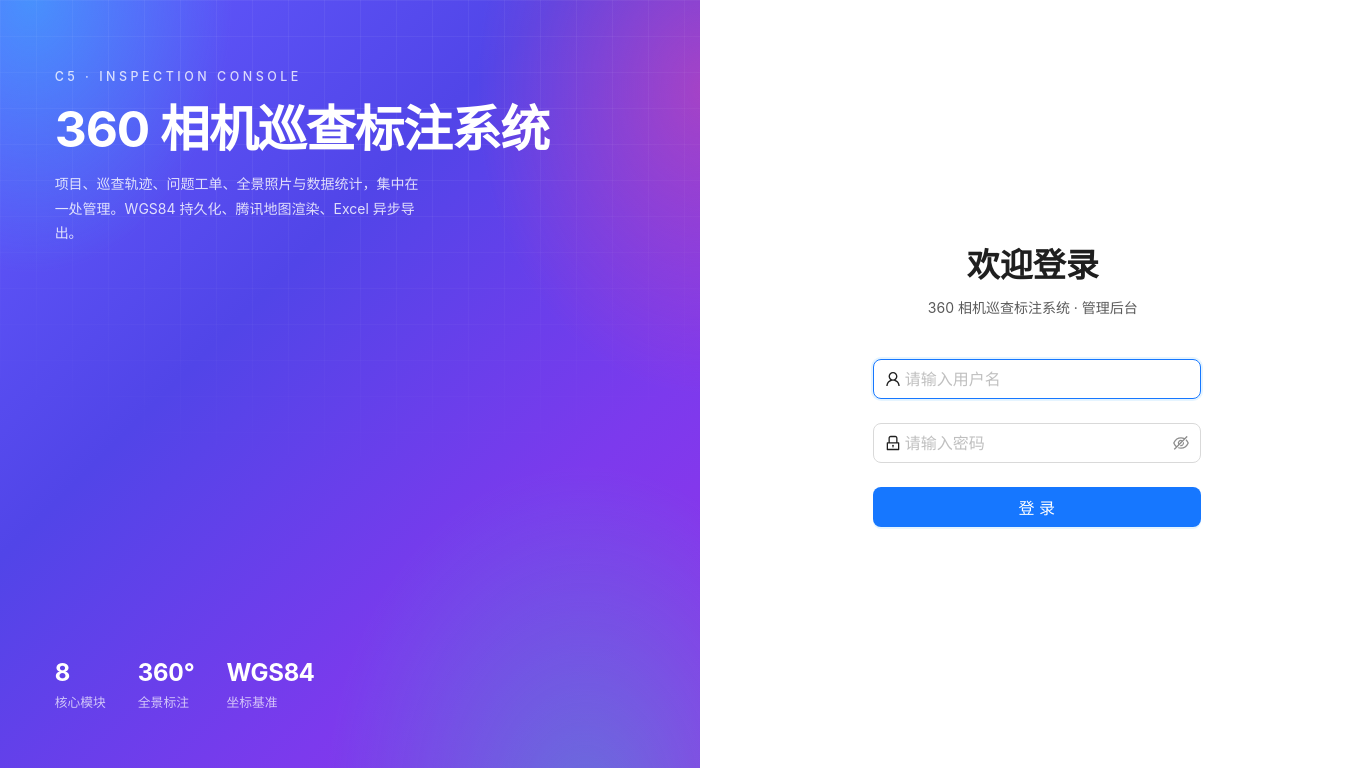
Test: LoginPage › surfaces a friendly error on wrong credentials
Type "admin" into the field with placeholder "请输入用户名" at [1039, 379], box [905,367,1173,391]
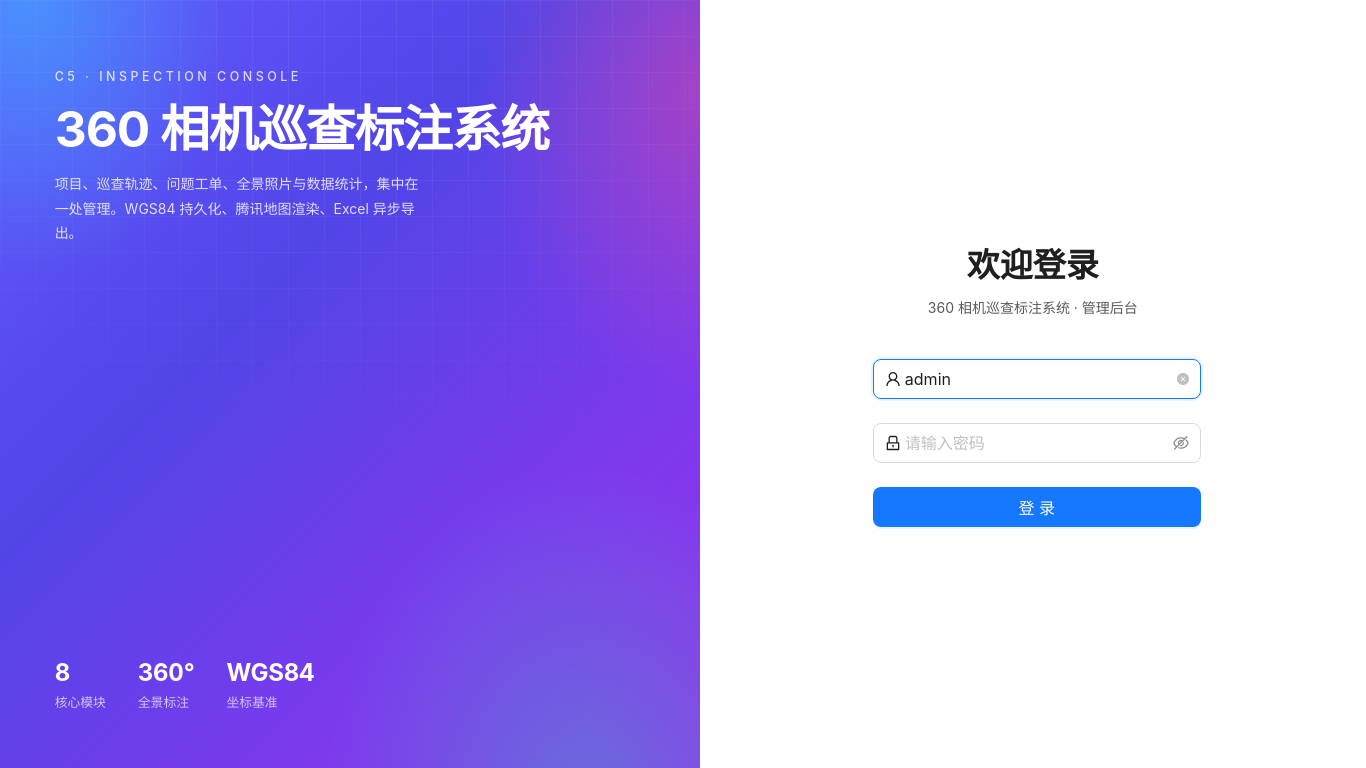
Type "wrong-pass" into the password field with placeholder "请输入密码" at [1037, 443], box [905,431,1169,455]
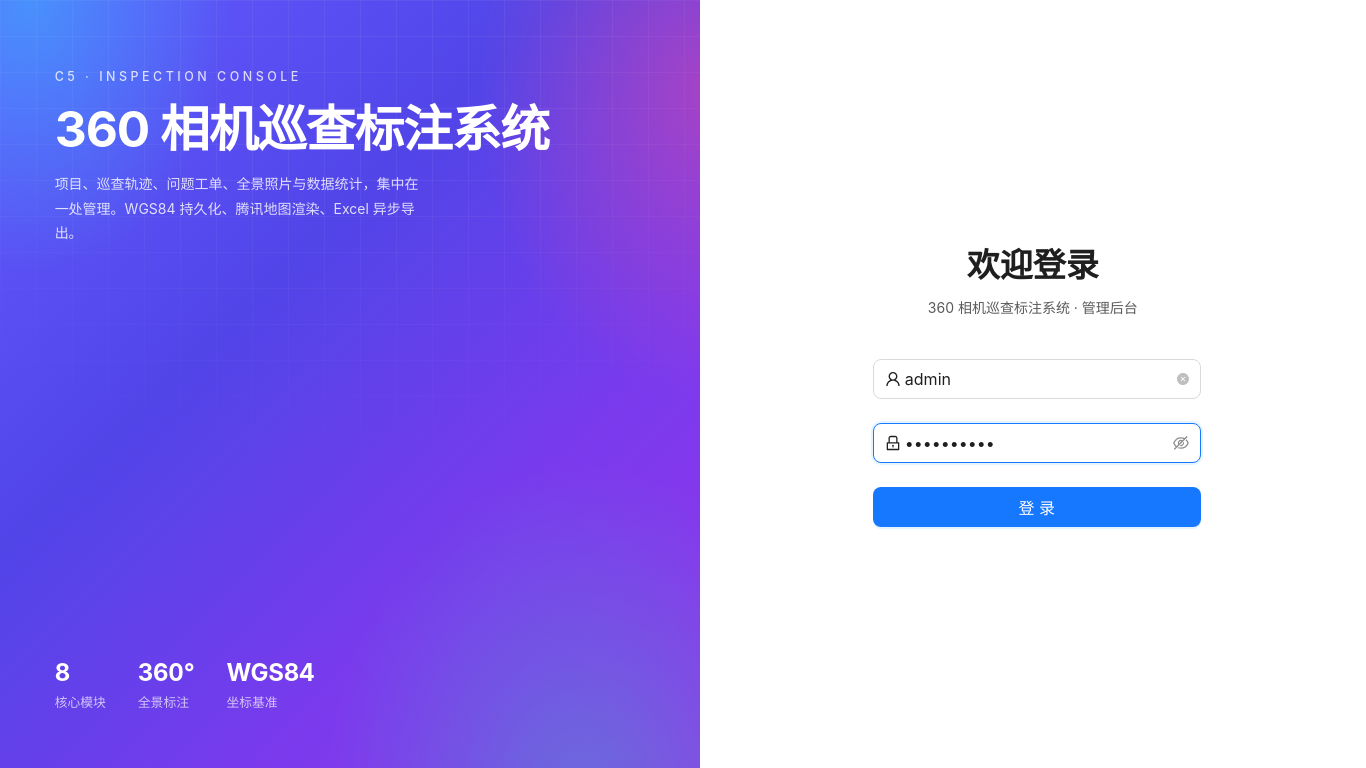
Click the button "登 录" at [1037, 507], box [873,487,1201,527]
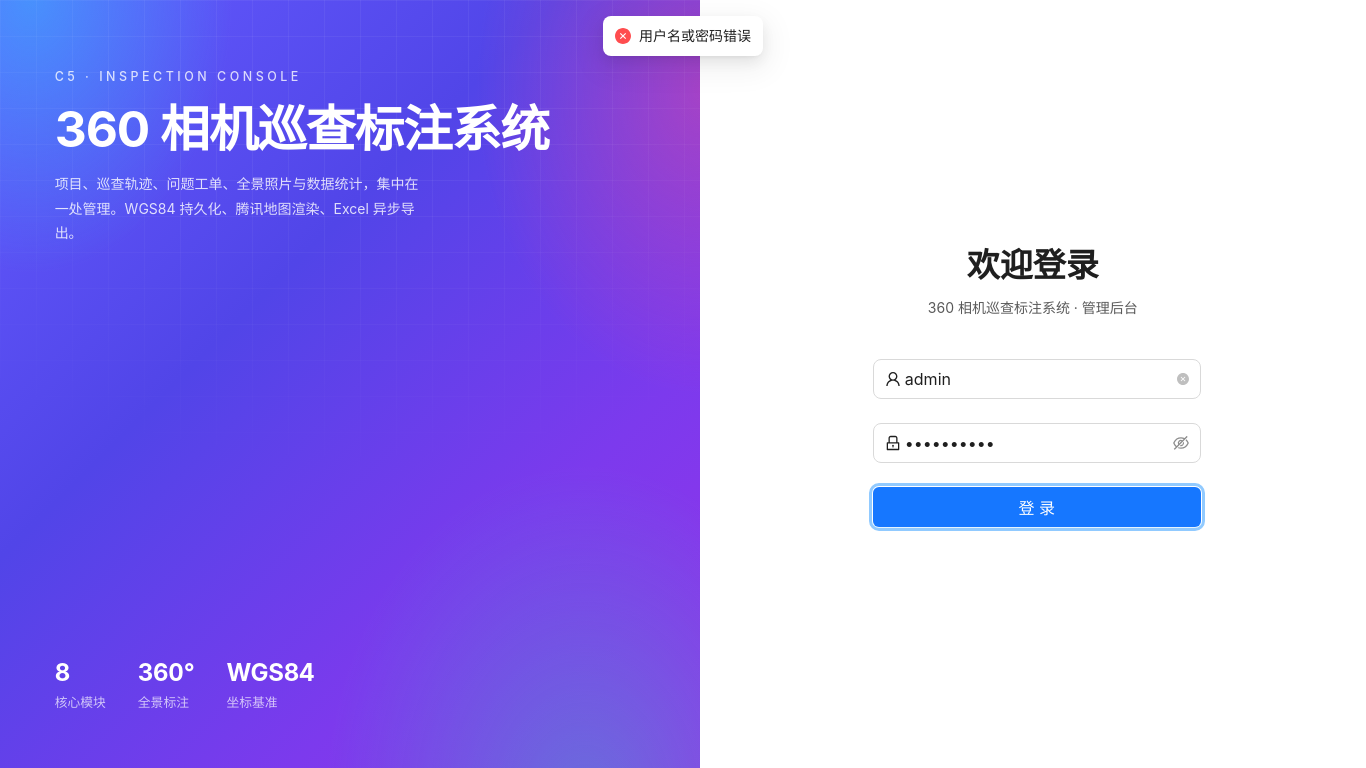
expect the text "用户名或密码错误" is shown: met, box [639,25,751,47]
